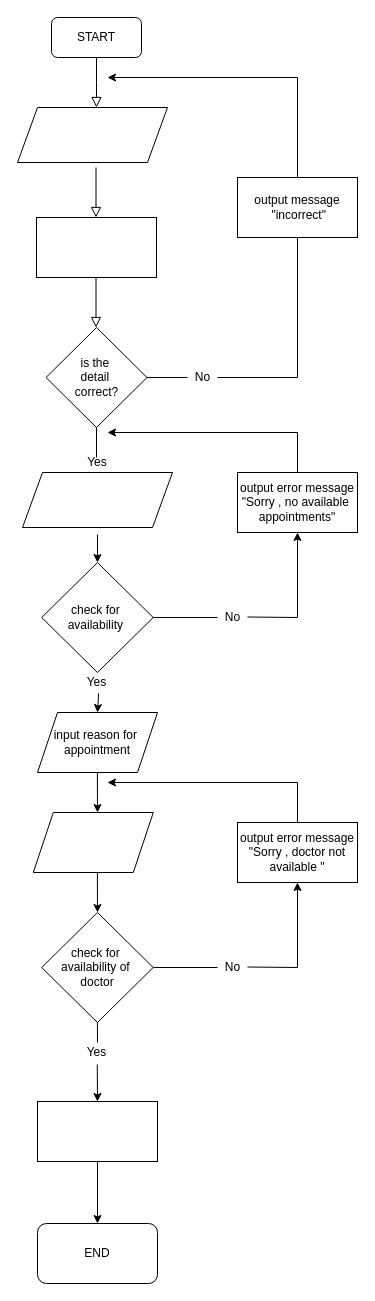
Image size: 375x1301. Some labels were removed from this diagram. The centre of each missing label's shape, as x and y in pixels:
confirm details of the patient: point (96, 247)
Input booking time and day: point (97, 500)
input patient details: point (92, 134)
input preferred doctor: point (92, 842)
output appointment number: point (97, 1131)
